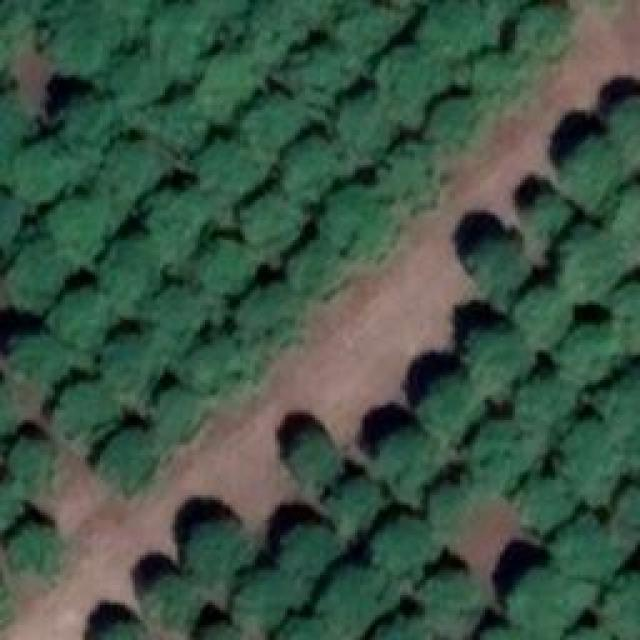Tree: (318, 560, 396, 640), (40, 8, 121, 80), (548, 515, 636, 579), (560, 418, 623, 507), (43, 190, 115, 265), (52, 290, 121, 367), (5, 142, 76, 214), (95, 243, 169, 311), (468, 420, 544, 486), (370, 148, 446, 213), (3, 245, 81, 308), (325, 193, 397, 261), (600, 365, 640, 483), (423, 3, 499, 64), (140, 188, 210, 253), (235, 573, 316, 629), (290, 40, 353, 112), (195, 53, 267, 116), (335, 0, 410, 60), (150, 2, 213, 73), (508, 375, 584, 433), (185, 520, 249, 588), (558, 235, 621, 304), (240, 10, 309, 73), (513, 573, 585, 633), (103, 335, 172, 397), (240, 197, 311, 256), (233, 292, 306, 349), (58, 98, 125, 160), (275, 525, 341, 587), (382, 53, 454, 109), (373, 513, 437, 575), (178, 350, 250, 405), (195, 147, 261, 206), (513, 290, 574, 352), (108, 58, 169, 120), (555, 328, 619, 387), (197, 238, 256, 302), (103, 137, 167, 196), (343, 92, 408, 150), (155, 103, 225, 156), (10, 335, 85, 384), (58, 380, 122, 437), (467, 325, 524, 388), (153, 288, 217, 344), (10, 520, 70, 577), (328, 475, 391, 529), (420, 370, 477, 429), (565, 138, 620, 199), (290, 240, 345, 299), (100, 438, 160, 491), (518, 2, 573, 59), (243, 103, 303, 155), (375, 428, 432, 481), (523, 475, 575, 533), (282, 435, 340, 486), (293, 143, 352, 193), (474, 240, 528, 293), (148, 575, 198, 629), (428, 100, 481, 150), (468, 55, 523, 103), (605, 280, 640, 355), (150, 390, 197, 445), (8, 440, 63, 487), (420, 573, 481, 615), (603, 180, 640, 247), (605, 570, 640, 640), (0, 87, 31, 160), (610, 98, 640, 171), (2, 0, 32, 70), (180, 0, 252, 29), (90, 0, 167, 27), (432, 478, 477, 522), (250, 0, 334, 22), (0, 187, 22, 257), (370, 615, 428, 640), (528, 195, 571, 227), (275, 617, 332, 640), (94, 617, 147, 640), (613, 485, 640, 525), (0, 480, 19, 534), (0, 375, 16, 432), (565, 623, 608, 640), (202, 625, 240, 640), (483, 625, 517, 640), (0, 584, 8, 631)
